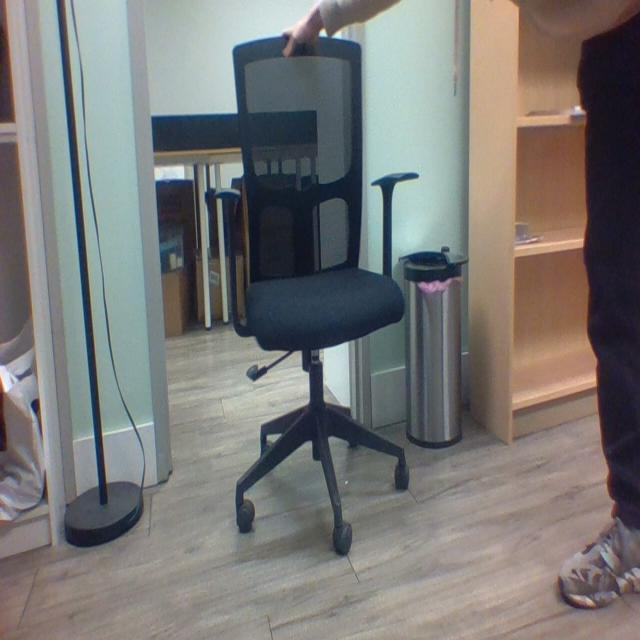chair: (222, 33, 402, 583)
